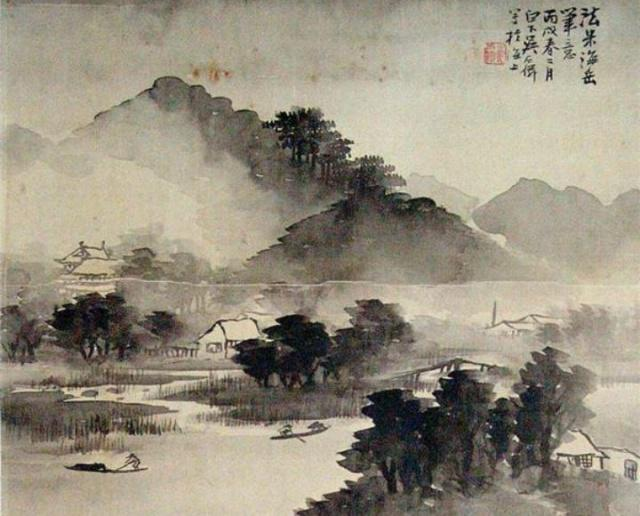boat: (267, 424, 330, 441), (65, 461, 146, 472)
bridge: (146, 342, 198, 366)
brige: (390, 351, 512, 384)
grass: (5, 409, 175, 450), (39, 375, 157, 394), (212, 411, 366, 422), (169, 383, 248, 404)
hill: (419, 165, 640, 273), (263, 196, 479, 298)
house: (552, 423, 640, 484), (194, 310, 280, 361), (65, 238, 125, 299), (482, 315, 571, 338)
man: (127, 450, 143, 475), (277, 421, 297, 437)
river: (33, 437, 335, 516)
tree: (345, 388, 556, 498), (271, 108, 407, 196), (2, 298, 188, 354), (241, 323, 381, 393), (131, 250, 250, 314)
